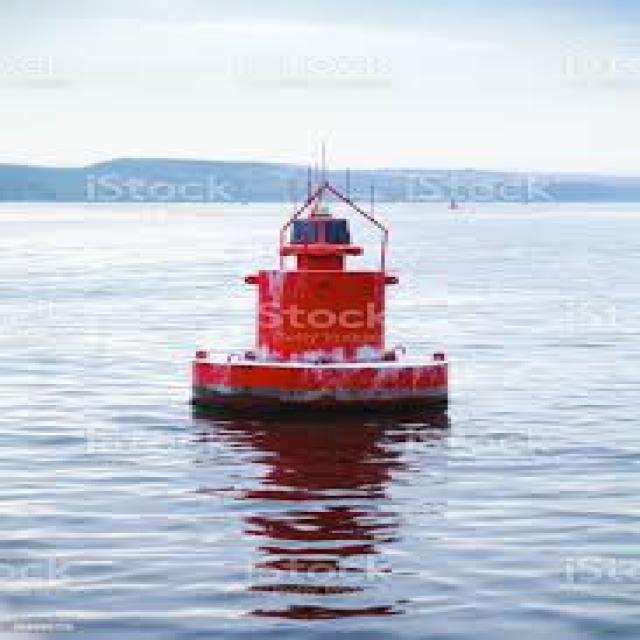buoy: (171, 132, 466, 440)
